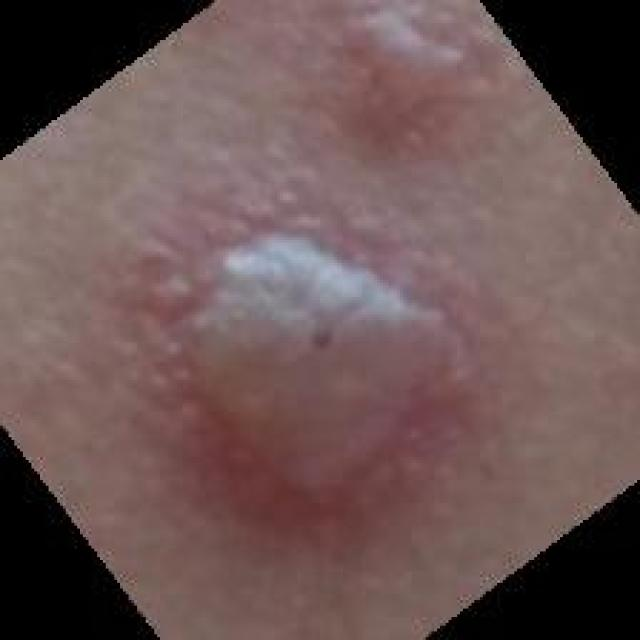others: (20, 26, 553, 591)
